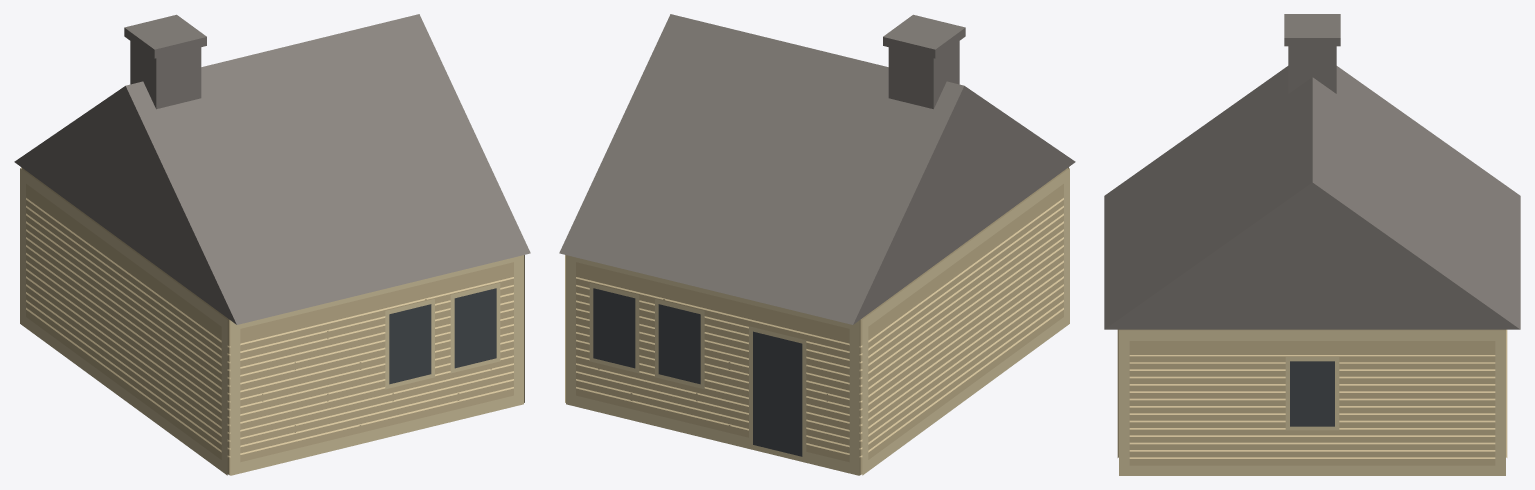
The model's file is recon_1835_north_d3_038__inferred_1835.glb.
3 views of the same model, side by side, from view 1: azimuth 30°, elevation 25°; view 2: azimuth 150°, elevation 25°; view 3: azimuth 270°, elevation 25° (orthographic). The views are drawn at different scales.
Visible parts, largest first — view 1: recon_1835_north_d3_038__inferred_1835; view 2: recon_1835_north_d3_038__inferred_1835; view 3: recon_1835_north_d3_038__inferred_1835.
Boxes of the visible parts, x1,y1,x2,y2 form: recon_1835_north_d3_038__inferred_1835: (14, 14, 530, 475); recon_1835_north_d3_038__inferred_1835: (559, 14, 1075, 475); recon_1835_north_d3_038__inferred_1835: (1104, 14, 1520, 475).
Bounding box in the file's own units: 5.57 × 6.37 × 7.21.
